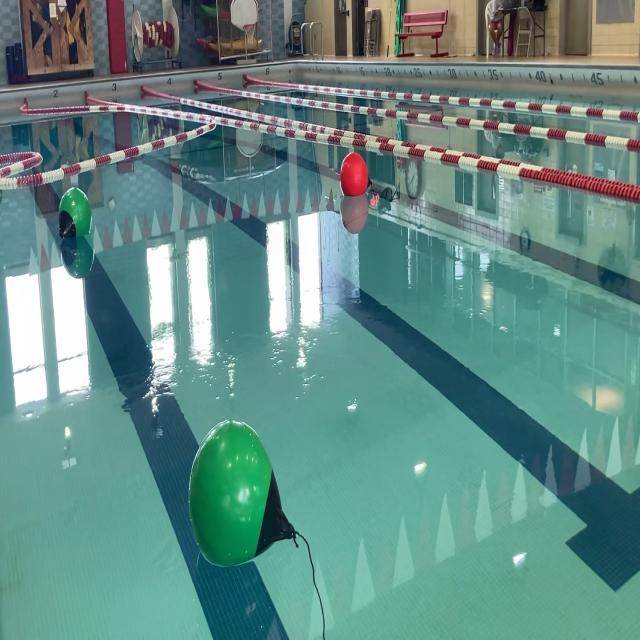buoy: (186, 418, 298, 568), (57, 187, 91, 248), (339, 151, 372, 201)
